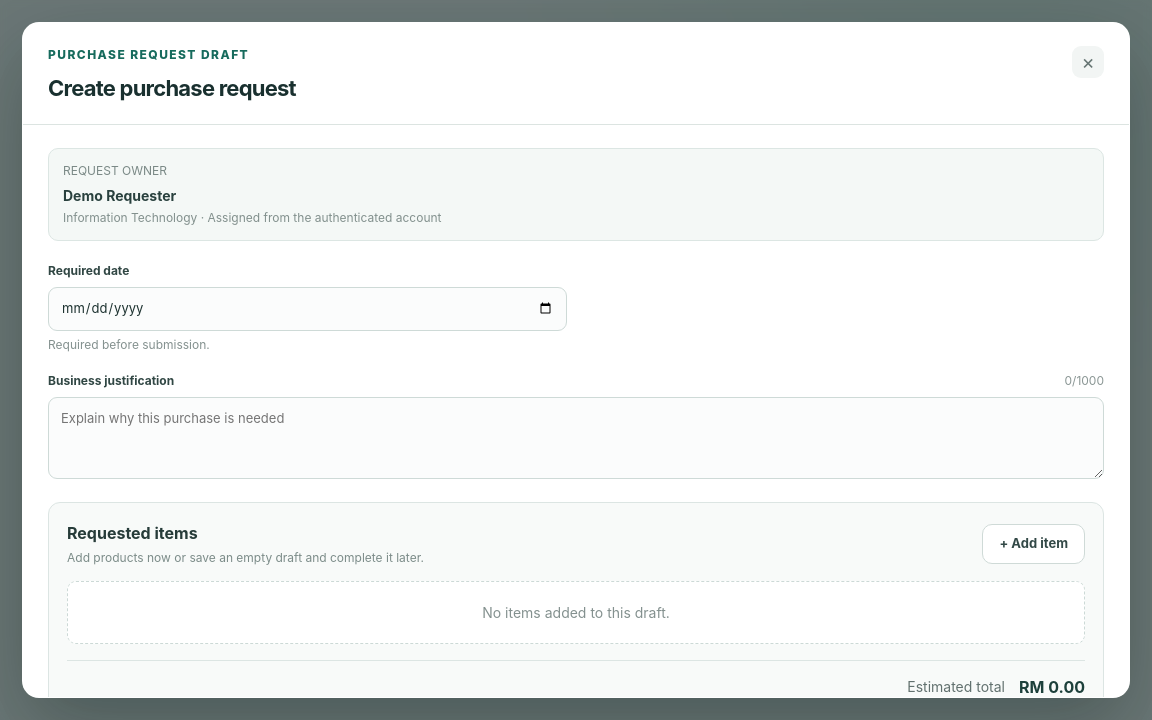
Test case: PurchaseRequestForm › rejects fractional quantities when submitAfterSave=false
Type "2030-12-31" into the date field labelled "Required date". click: (308,309)
box: [48,287,567,330]
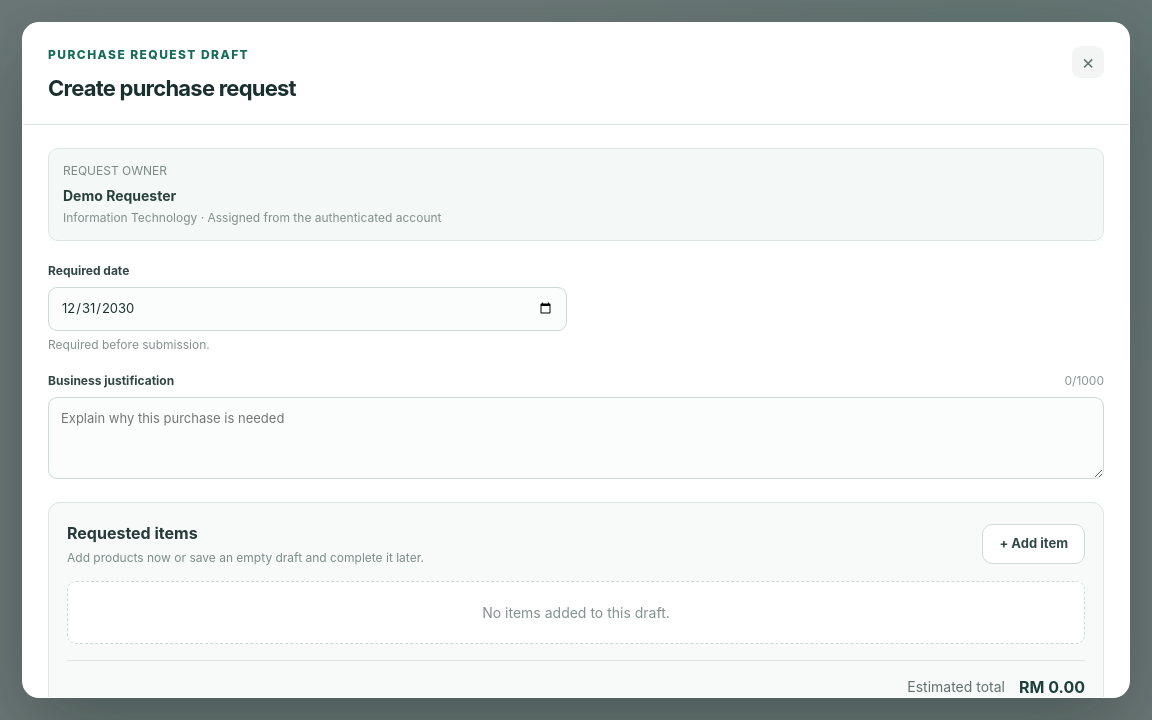
Click the button "+ Add item". click: (1034,544)
box: [982,524,1085,564]
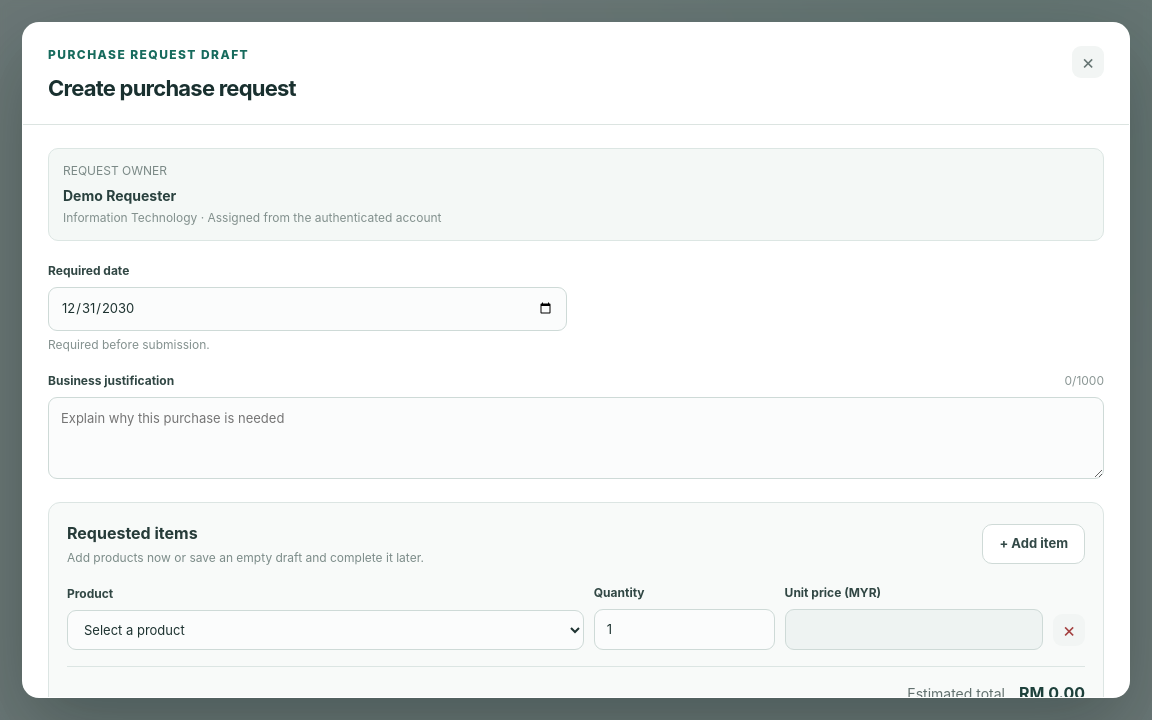
Select "ITEM-0001 - Monitor" in the dropdown labelled "Product". click: (325,630)
box: [67,610,584,650]
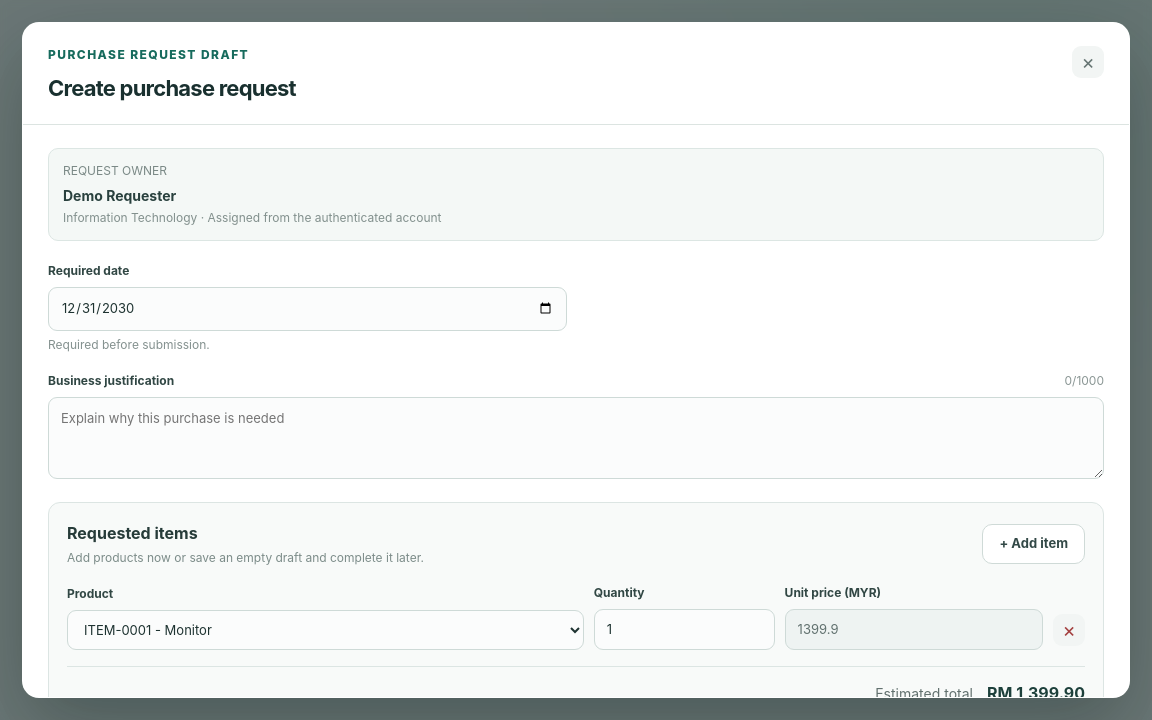
Replace the text in the number field labelled "Quantity" with "1.004". click: (684,630)
box: [594,609,775,650]
(page scrolled)
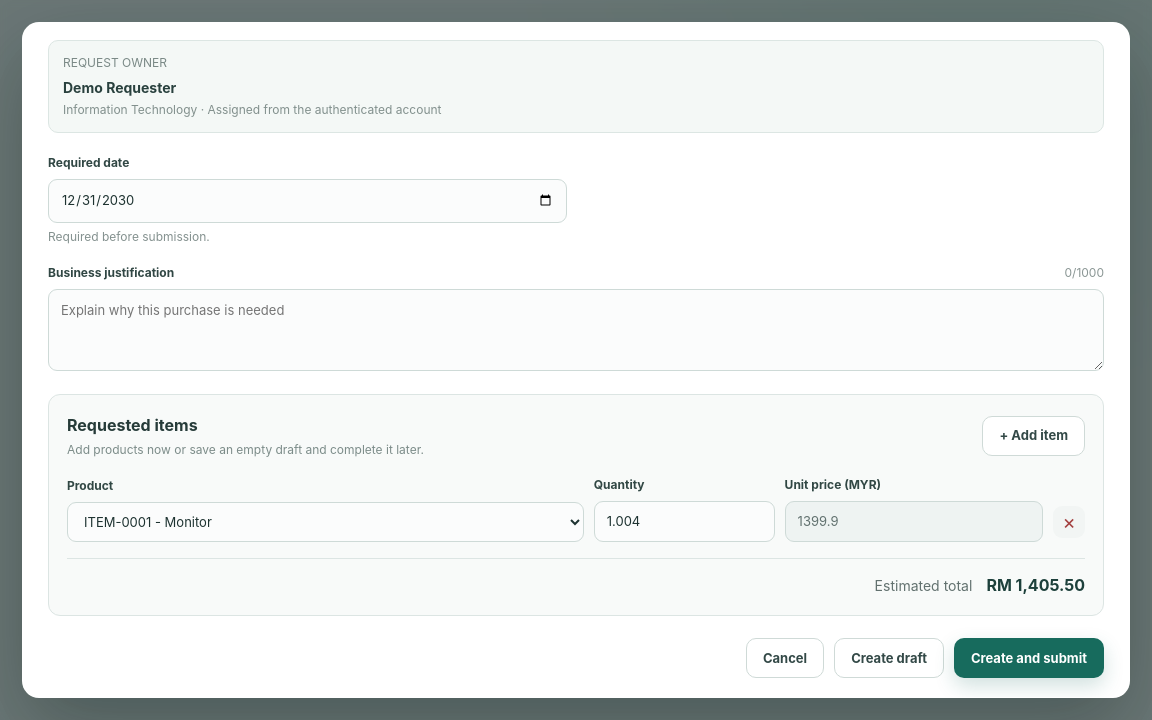
Submit the form
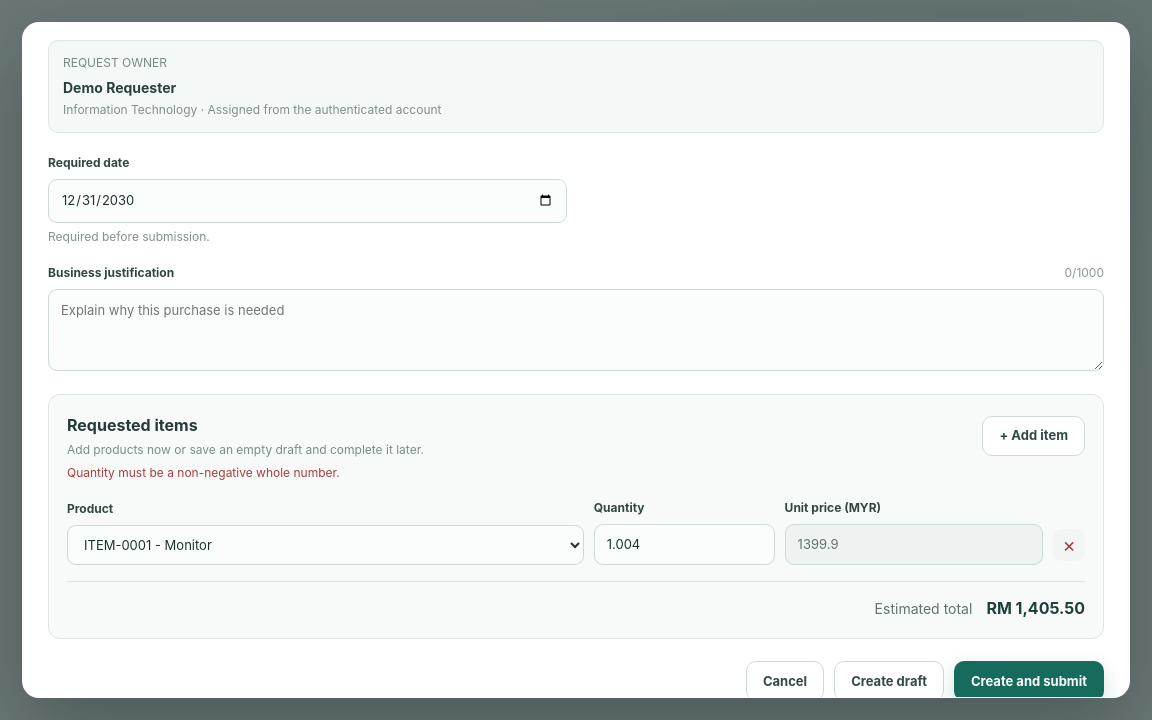
Expected: the text "whole number" is shown, [67,465,340,480]
